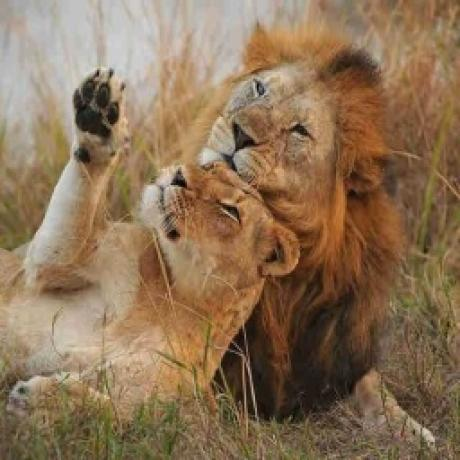Lion: (175, 10, 437, 446), (0, 61, 298, 429)
